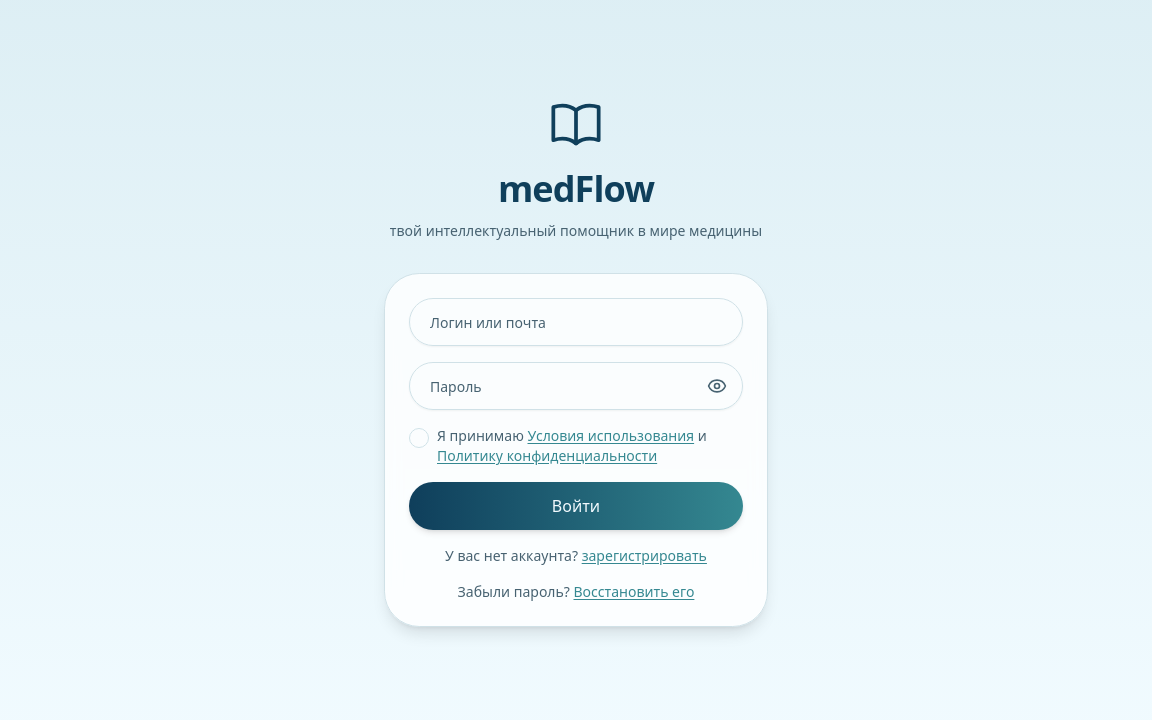
Test: LoginPage › shows an error toast-friendly message on wrong credentials
In the field with placeholder "Логин или почта": x=576, y=322 [409,298,743,346], type "student@sechenov.ru"
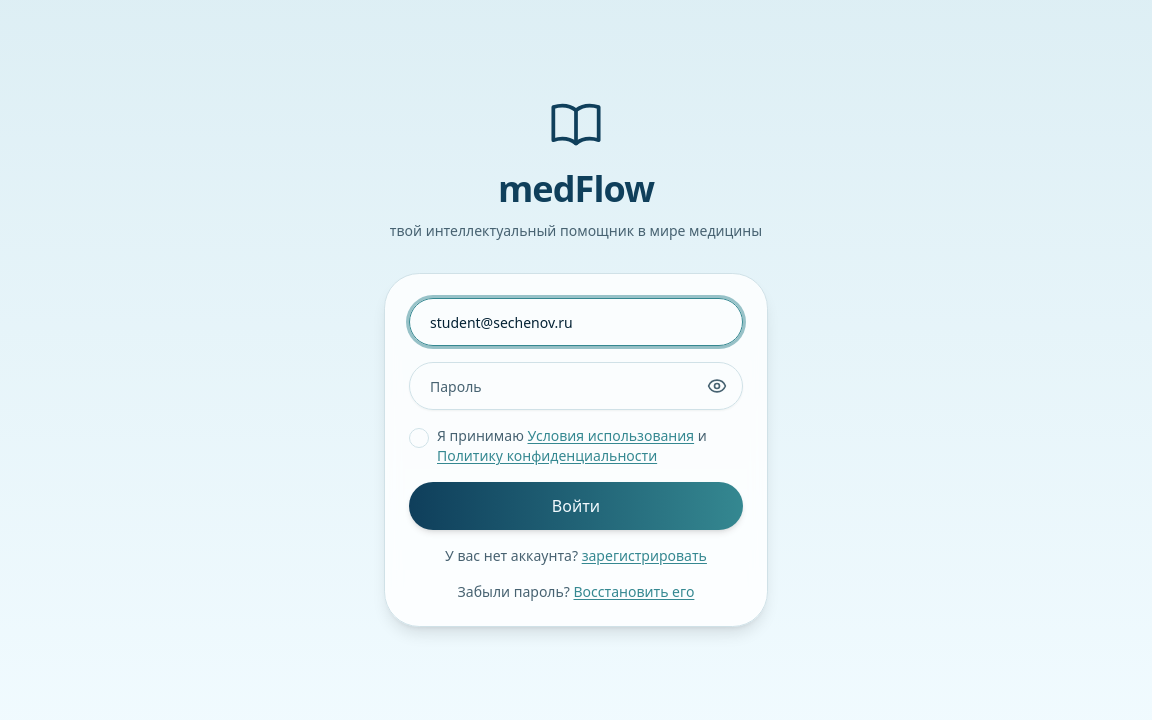
In the password field with placeholder "Пароль": x=576, y=386 [409,362,743,410], type "wrong-password"
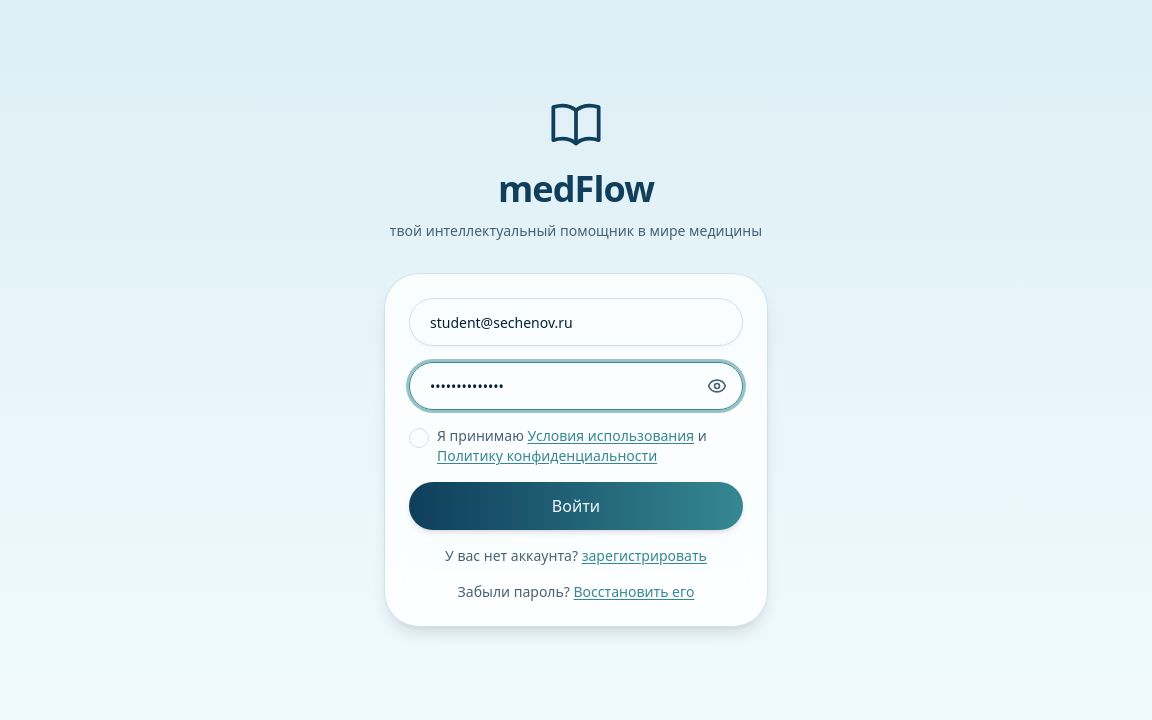
Click the checkbox: x=419, y=438 [409,428,429,448]
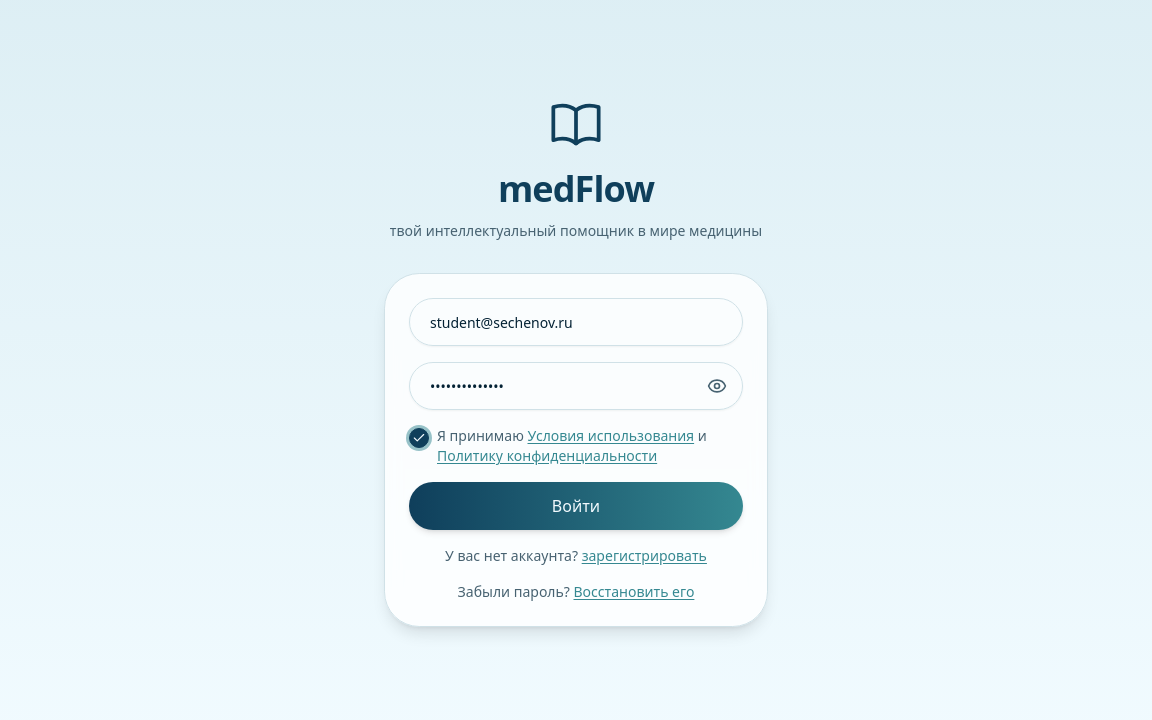
Click the button "Войти": x=576, y=506 [409,482,743,530]
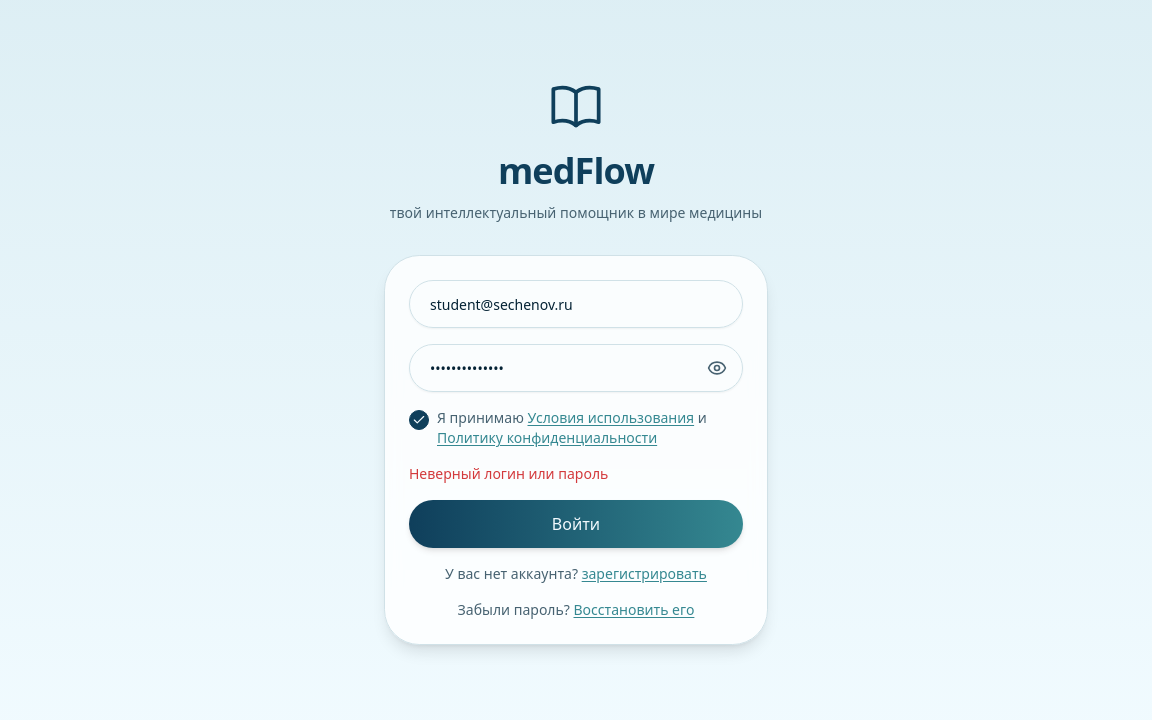
Result: the text "Неверный логин или пароль" is shown at [409,464,608,483]
